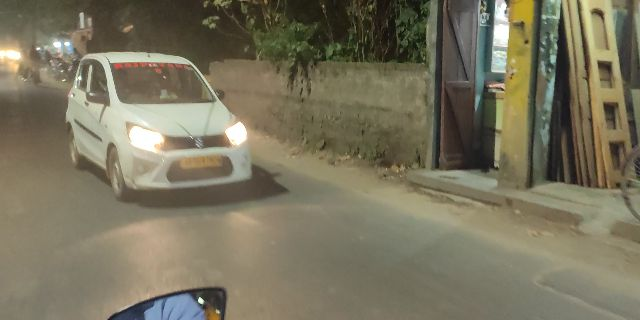Car: (61, 48, 264, 203)
